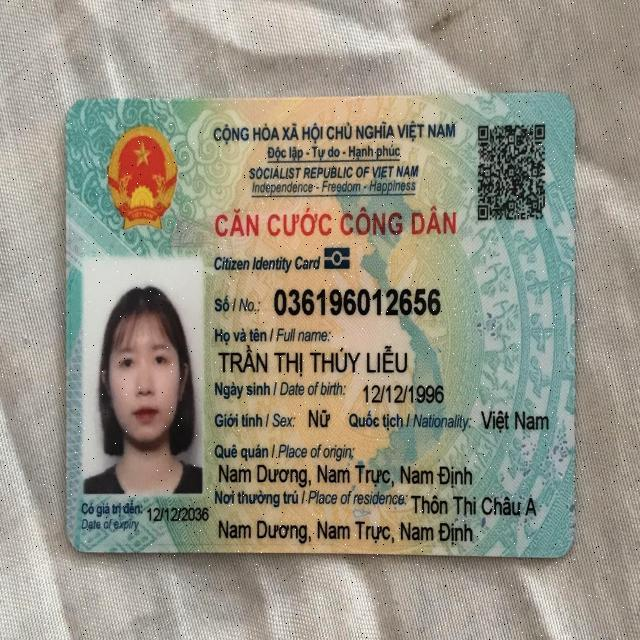current_place: (218, 513, 474, 548), (409, 490, 540, 521)
dob: (361, 379, 450, 406)
expire_date: (145, 501, 209, 528)
gender: (305, 405, 338, 432)
id: (269, 274, 447, 317)
name: (216, 343, 414, 377)
nationality: (473, 404, 555, 436)
origin_place: (216, 459, 475, 491)
qr: (474, 120, 550, 226)
